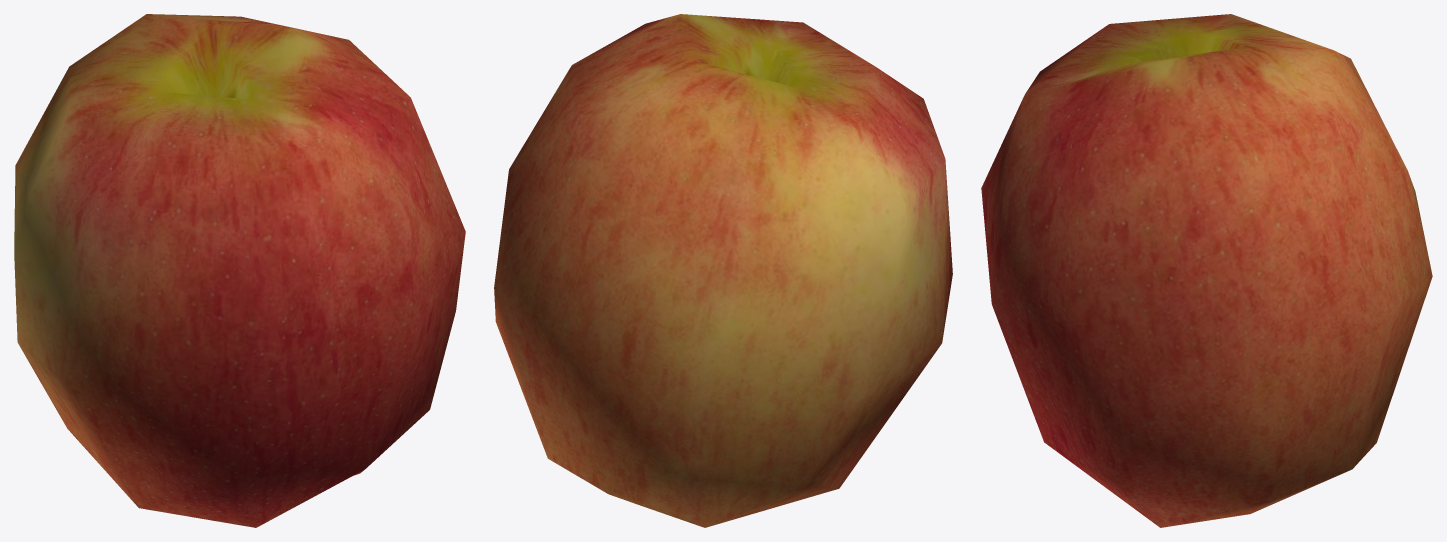
File: tefcefala_tier_3.gltf
The picture shows the model from 3 angles, left to right: view 1: azimuth 30°, elevation 25°; view 2: azimuth 150°, elevation 25°; view 3: azimuth 270°, elevation 25°; orthographic projection.
Parts seen in each view (by area): view 1: tefcefala_LOD0_TIER3_000; view 2: tefcefala_LOD0_TIER3_000; view 3: tefcefala_LOD0_TIER3_000.
Part boxes in pixels (bbox=[...]): tefcefala_LOD0_TIER3_000: bbox=[14, 14, 465, 527]; tefcefala_LOD0_TIER3_000: bbox=[494, 14, 952, 527]; tefcefala_LOD0_TIER3_000: bbox=[981, 14, 1432, 527].
Bounding box in the file's own units: 0.0797 × 0.0857 × 0.0793.
1 material, 1 textured.
